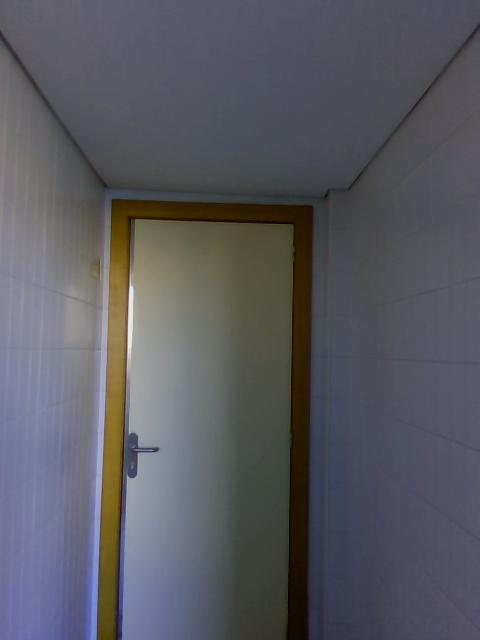closed_door: (94, 198, 314, 639)
